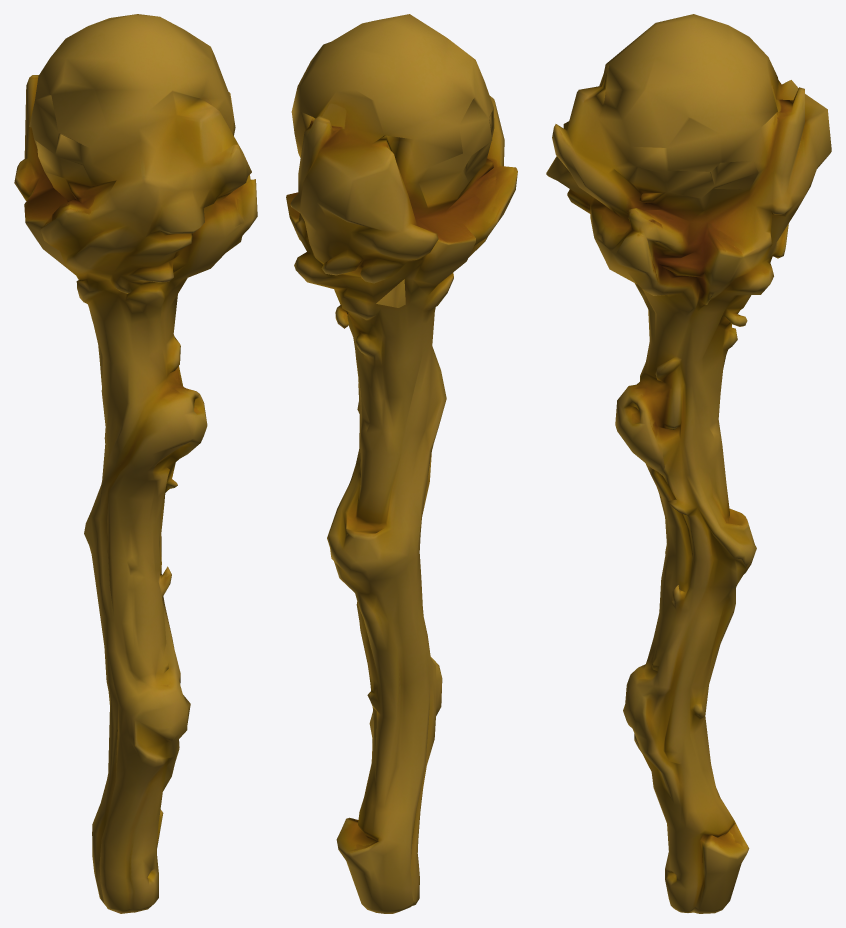
Rendered from coalglass_staff.glb.
3 views of the same model, side by side, from view 1: azimuth 30°, elevation 25°; view 2: azimuth 150°, elevation 25°; view 3: azimuth 270°, elevation 25° (orthographic).
Parts seen in each view (by area): view 1: base_model_path; view 2: base_model_path; view 3: base_model_path.
Part boxes in pixels (left/top/right/bottom): base_model_path: left=14, top=14, right=257, bottom=913; base_model_path: left=286, top=14, right=517, bottom=913; base_model_path: left=546, top=14, right=831, bottom=913.
Size of the model in its own units: 0.2329 by 1 by 0.2916.
Materials: 1 (1 with a texture image).
